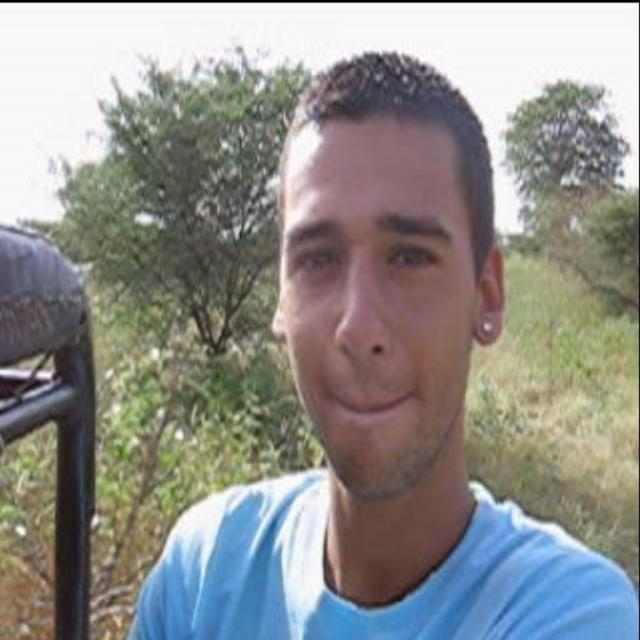nomask: (285, 113, 473, 495)
